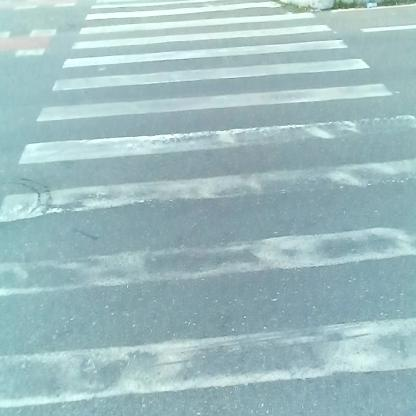crosswalk: (15, 8, 415, 405)
